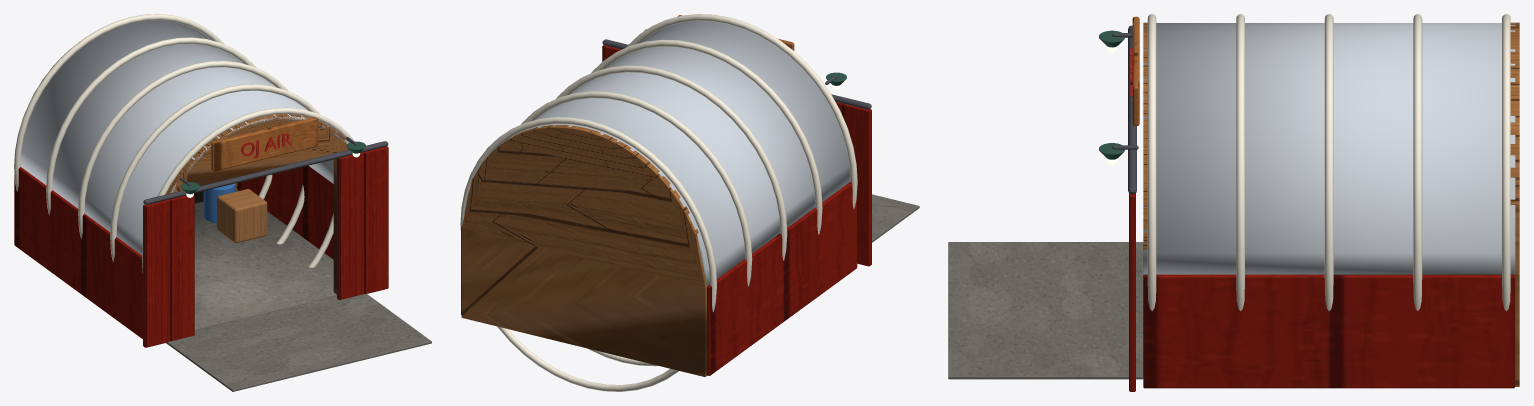
Rendered from hangar.glb.
3 views of the same model, side by side, from view 1: azimuth 30°, elevation 25°; view 2: azimuth 150°, elevation 25°; view 3: azimuth 270°, elevation 25° (orthographic). The views are drawn at different scales.
Parts seen in each view (by area): view 1: roof, apron, floor, side, door, door.001, side.001, front_top, signboard, Torus.002, Torus.001, crate (+7 smaller); view 2: back, roof, side, Torus.004, door, Torus.003, Torus, Torus.001, Torus.002, apron, door_rail; view 3: roof, side.001, apron, Torus, Torus.002, Torus.003, Torus.004, Torus.001, back, door.001, door_rail, signboard (+2 smaller).
Part boxes in pixels (box(x1,y1,x2,y2)): roof: box(20, 20, 349, 255); apron: box(166, 293, 431, 391); floor: box(194, 189, 336, 330); side: box(14, 167, 142, 338); door: box(143, 194, 194, 347); door.001: box(337, 146, 388, 299); side.001: box(237, 165, 333, 259); front_top: box(185, 114, 336, 185); signboard: box(211, 117, 317, 171); Torus.002: box(78, 61, 304, 244); Torus.001: box(110, 84, 333, 267); crate: box(217, 189, 267, 243); back: box(461, 125, 707, 376); roof: box(464, 21, 850, 286); side: box(707, 182, 857, 375); Torus.004: box(460, 117, 716, 391); door: box(836, 102, 871, 266); Torus.003: box(521, 91, 752, 366); Torus: box(626, 14, 857, 209); Torus.001: box(591, 39, 822, 234); Torus.002: box(556, 65, 787, 260); apron: box(872, 194, 919, 242); door_rail: box(602, 39, 871, 109); roof: box(1143, 23, 1515, 274); side.001: box(1143, 274, 1515, 388); apron: box(948, 242, 1143, 379); Torus: box(1147, 14, 1156, 310); Torus.002: box(1324, 14, 1333, 311); Torus.003: box(1413, 14, 1422, 310); Torus.004: box(1502, 14, 1510, 311); Torus.001: box(1236, 14, 1244, 311); back: box(1510, 22, 1519, 386); door.001: box(1129, 193, 1135, 391); door_rail: box(1128, 25, 1136, 194); signboard: box(1132, 16, 1139, 125).
Size of the model in its own units: 4.4 by 4.2 by 6.45.
Materials: 13 (5 with a texture image).
